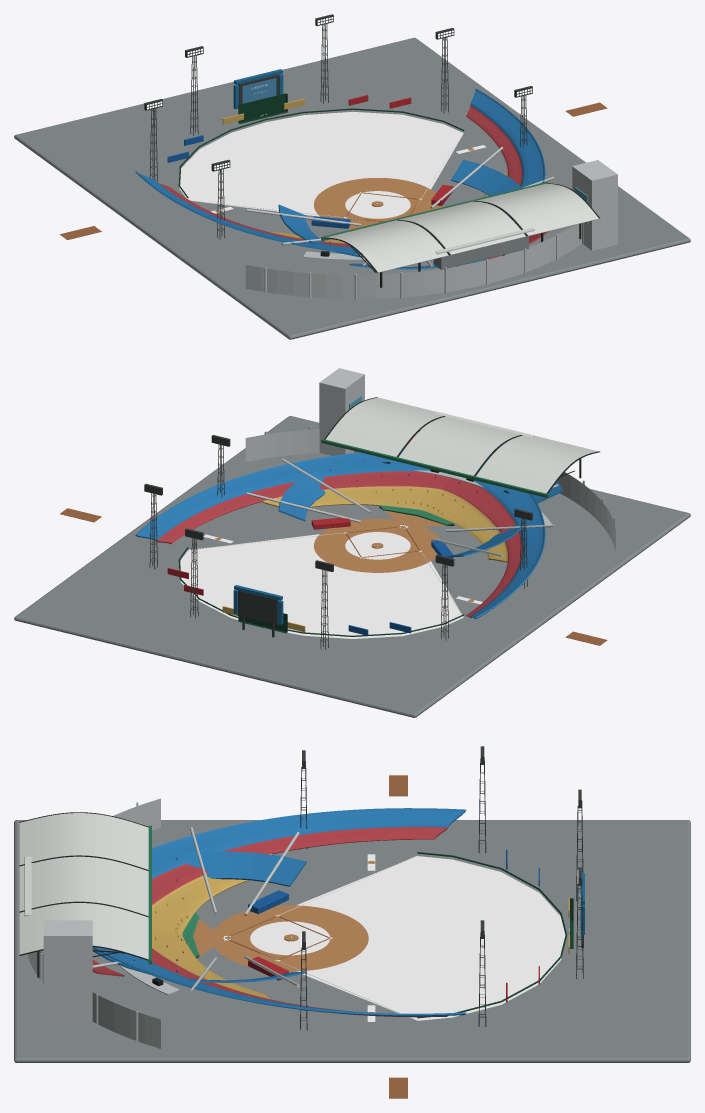
The model's file is estadio-quisqueya.glb.
3 views of the same model, one above another, from view 1: azimuth 30°, elevation 25°; view 2: azimuth 150°, elevation 25°; view 3: azimuth 270°, elevation 25° (orthographic). The views are drawn at different scales.
Parts seen in each view (by area): view 1: stadium_site, field_grass, grandstand_outer_facade, roof_panel_right, main_grandstand_roof, roof_panel_left, infield_clay, grandstand_service_tower_right, section_bleachers_right, section_preferencia, section_palco_aa, section_bleachers_left (+12 smaller); view 2: stadium_site, field_grass, section_palco_aa, section_bleachers_right, section_palco_a, main_grandstand_roof, roof_panel_right, roof_panel_left, infield_clay, grandstand_outer_facade, section_bleachers_left, grandstand_service_tower_right (+8 smaller); view 3: stadium_site, field_grass, section_bleachers_left, infield_clay, main_grandstand_roof, roof_panel_left, grandstand_service_tower_right, section_palco_aa, roof_panel_right, section_palco_a, section_preferencia, grandstand_outer_facade (+6 smaller).
Part boxes in pixels (left/top/right/bottom): stadium_site: left=14, top=37, right=690, bottom=339; field_grass: left=179, top=111, right=463, bottom=216; grandstand_outer_facade: left=245, top=223, right=581, bottom=298; roof_panel_right: left=476, top=183, right=599, bottom=236; main_grandstand_roof: left=398, top=201, right=525, bottom=254; roof_panel_left: left=325, top=220, right=448, bottom=272; infield_clay: left=314, top=178, right=441, bottom=229; grandstand_service_tower_right: left=572, top=160, right=617, bottom=250; section_bleachers_right: left=470, top=88, right=545, bottom=223; section_preferencia: left=278, top=159, right=521, bottom=257; section_palco_aa: left=159, top=105, right=522, bottom=247; section_bleachers_left: left=135, top=171, right=360, bottom=254; stadium_site: left=14, top=416, right=690, bottom=717; field_grass: left=180, top=534, right=463, bottom=638; section_palco_aa: left=156, top=471, right=522, bottom=618; section_bleachers_right: left=135, top=450, right=430, bottom=540; section_palco_a: left=262, top=486, right=507, bottom=562; main_grandstand_roof: left=398, top=416, right=520, bottom=475; roof_panel_right: left=326, top=397, right=443, bottom=456; roof_panel_left: left=476, top=435, right=597, bottom=493; infield_clay: left=314, top=518, right=440, bottom=572; grandstand_outer_facade: left=245, top=429, right=615, bottom=551; section_bleachers_left: left=470, top=460, right=545, bottom=618; grandstand_service_tower_right: left=319, top=368, right=364, bottom=455; stadium_site: left=14, top=820, right=690, bottom=1062; field_grass: left=296, top=856, right=565, bottom=1020; section_bleachers_left: left=152, top=808, right=466, bottom=878; infield_clay: left=211, top=905, right=368, bottom=971; main_grandstand_roof: left=19, top=856, right=148, bottom=915; roof_panel_left: left=19, top=813, right=148, bottom=869; grandstand_service_tower_right: left=43, top=920, right=92, bottom=1021; section_palco_aa: left=152, top=827, right=447, bottom=1017; roof_panel_right: left=19, top=903, right=148, bottom=959; section_palco_a: left=152, top=854, right=272, bottom=998; section_preferencia: left=92, top=851, right=306, bottom=982; grandstand_outer_facade: left=28, top=798, right=160, bottom=1048.
Bounding box in the file's own units: 282 × 44.9 × 250.
